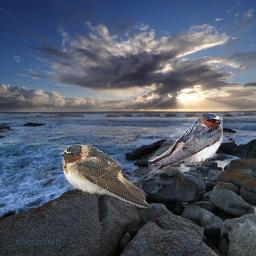Swallow: (59, 144, 152, 208), (148, 113, 223, 173)
